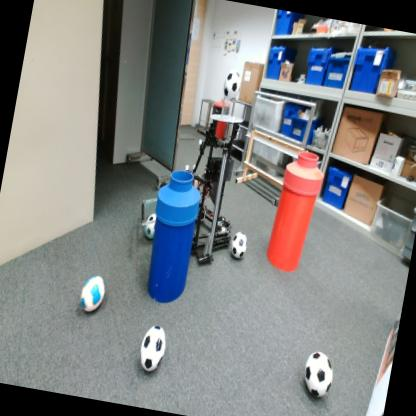ball: (299, 349, 337, 400), (136, 324, 168, 372), (76, 274, 106, 316), (222, 69, 242, 100), (228, 230, 247, 260), (143, 212, 158, 242)
